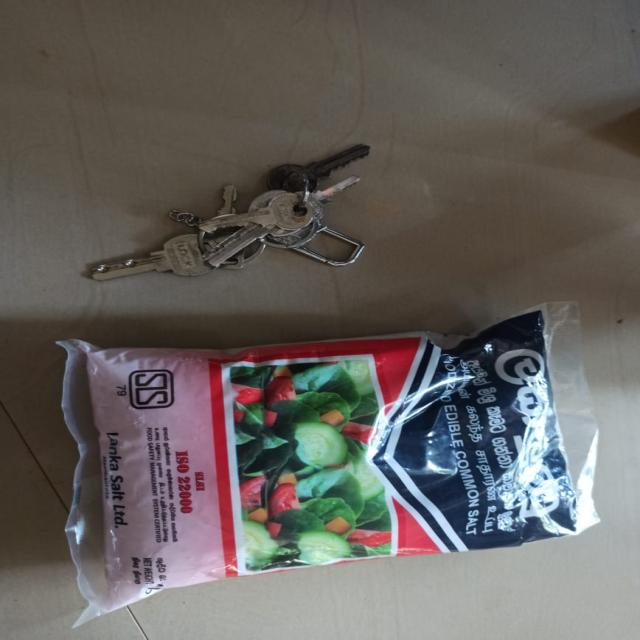Lak Lunu: (34, 294, 636, 632)
